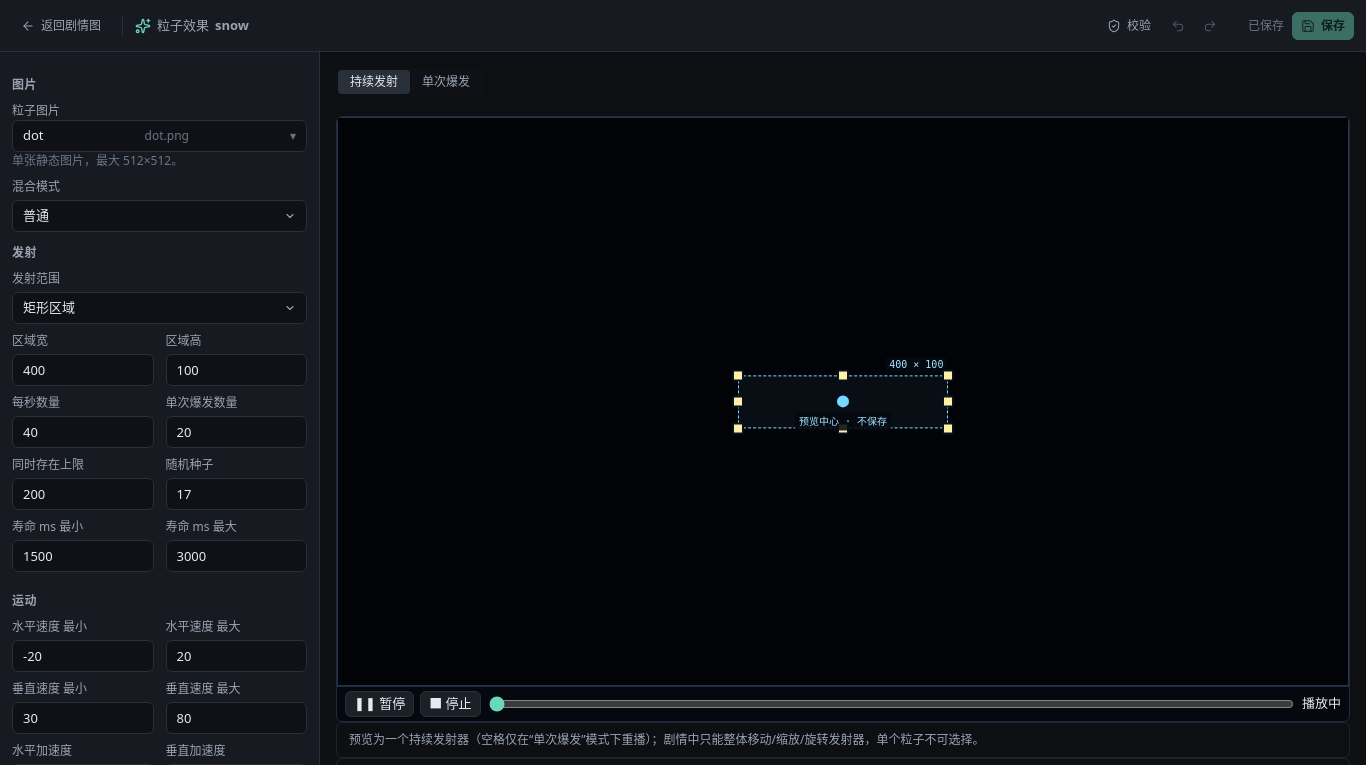
Test: VisualWorkspace burst mode › switches between continuous and burst without touching the definition
This screenshot has width=1366, height=765.
Expected: the drawing named "粒子效果预览" is shown, [337,117,1349,686]
Click the button "单次爆发" at (446, 82), box [410,70,482,94]
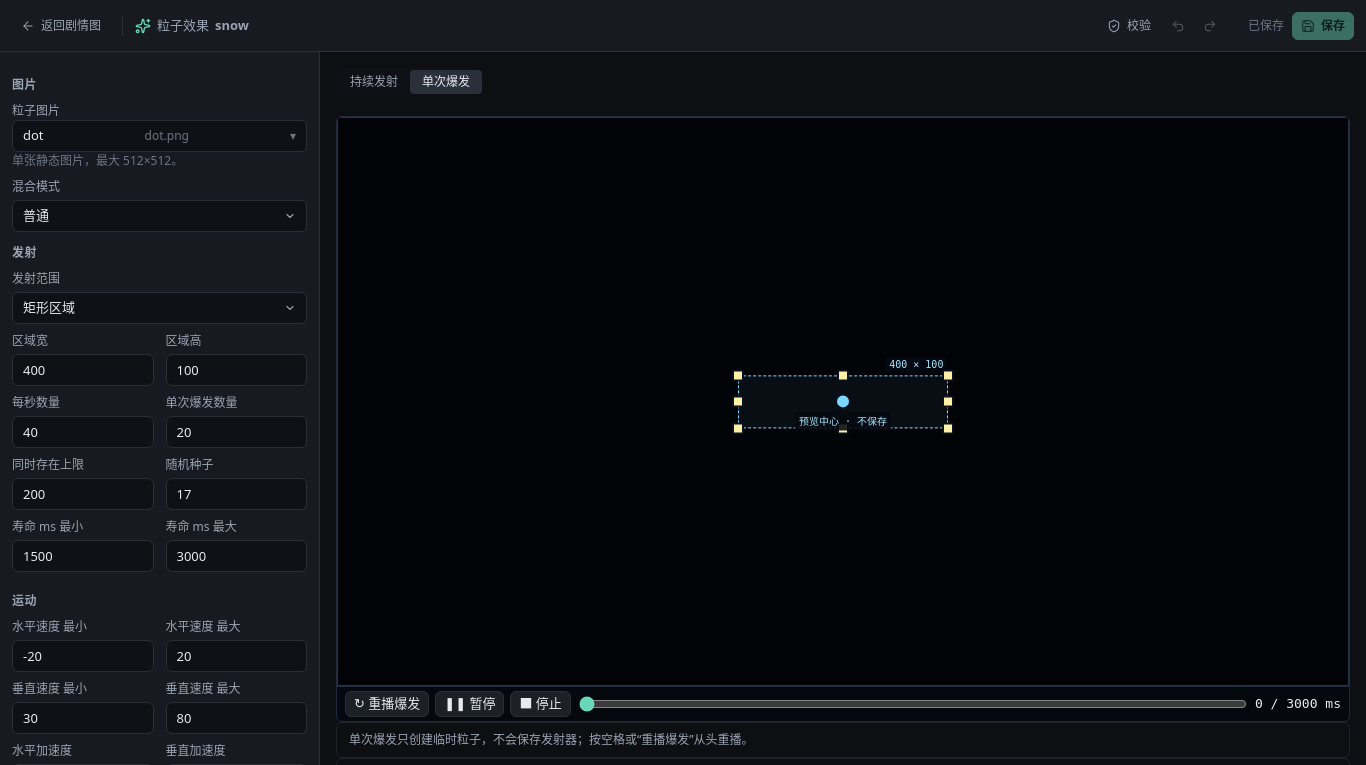
Now the button "↻ 重播爆发" is shown, box [345,691,429,717]
Now the text "单次爆发只创建临时粒子，不会保存发射器；按空格或“重播爆发”从头重播。" is shown, box [336,722,1350,758]
Click the button "持续发射" at (374, 82), box [338,70,410,94]
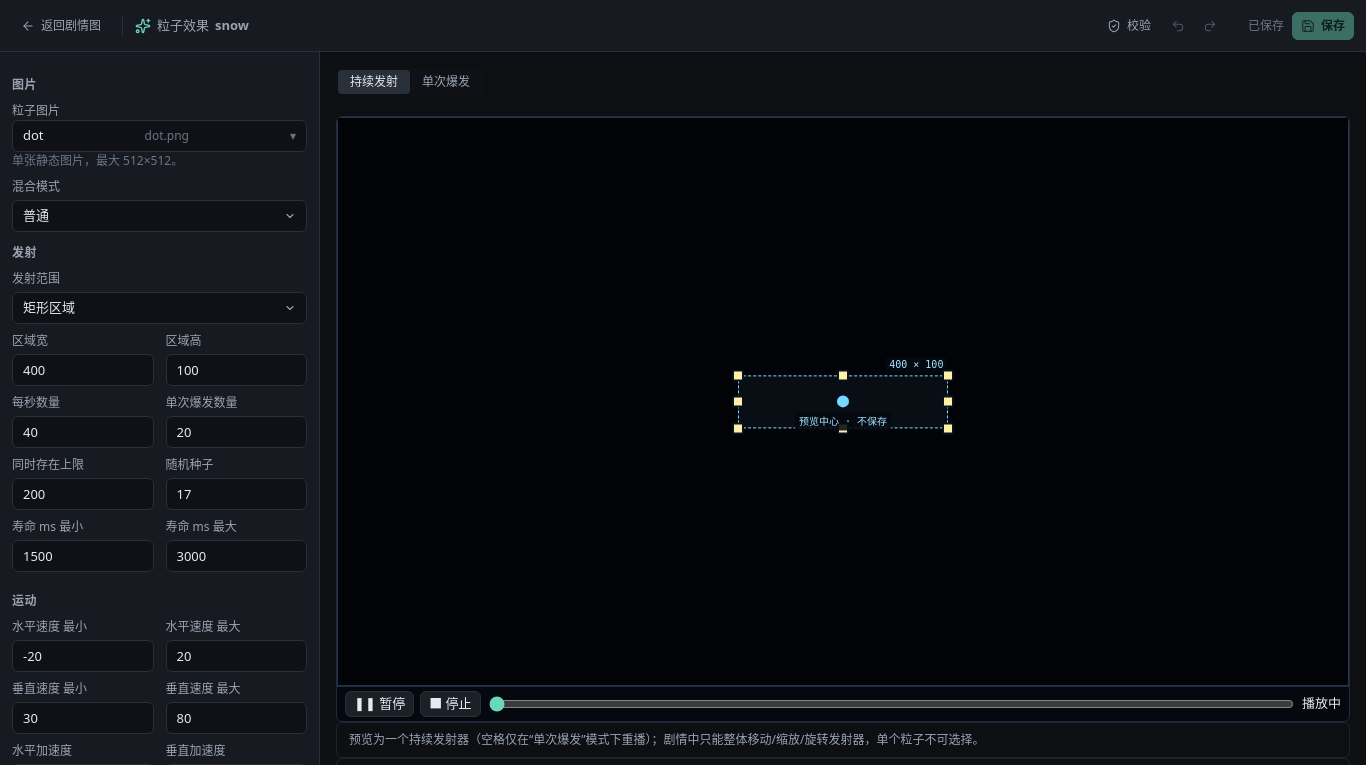
Now the button "重播爆发" is gone
Now the text "预览为一个持续发射器（空格仅在“单次爆发”模式下重播）；剧情中只能整体移动/缩放/旋转发射器，单个粒子不可选择。" is shown, box [336,722,1350,758]
